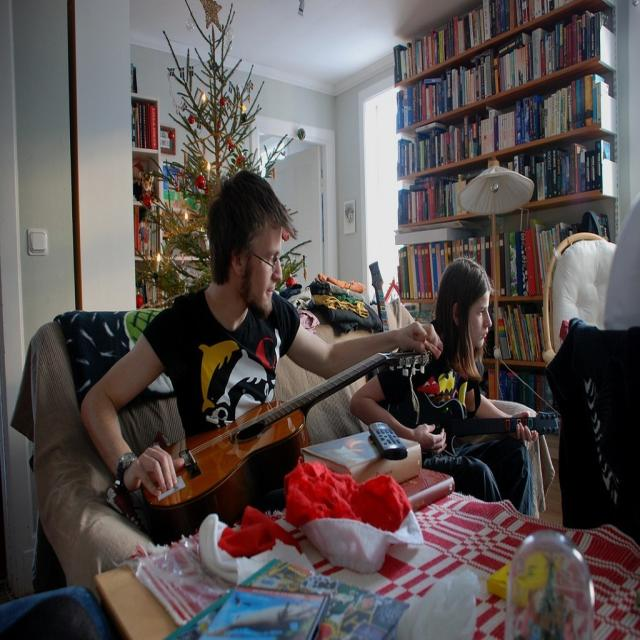guitar: (140, 349, 423, 540), (390, 391, 562, 458), (368, 257, 396, 330)
